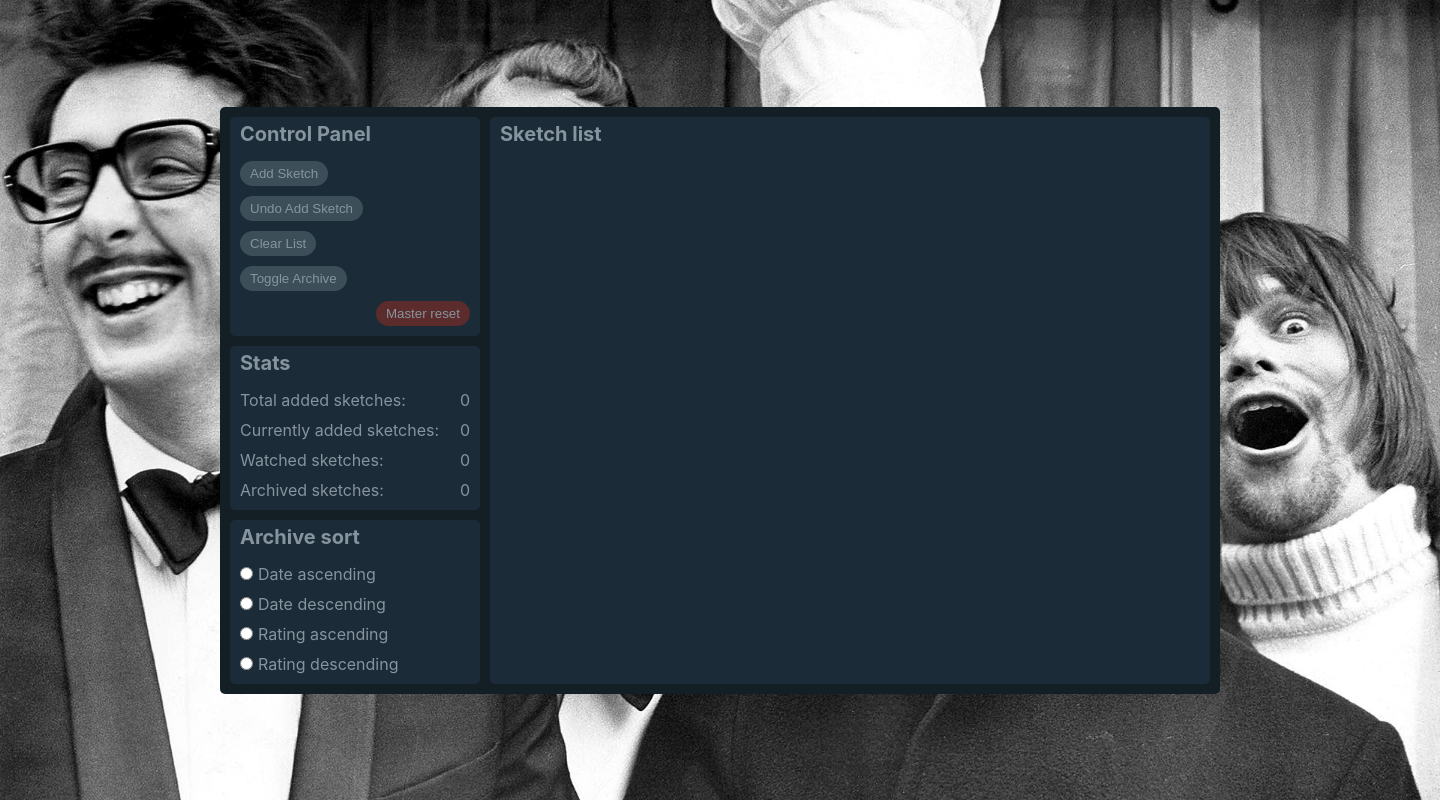
Control Panel › After clicking on "Add Sketch" button a new sketch should appear on the Sketch list
Click the button "Add Sketch" at point(284, 174), box [240, 161, 328, 186]
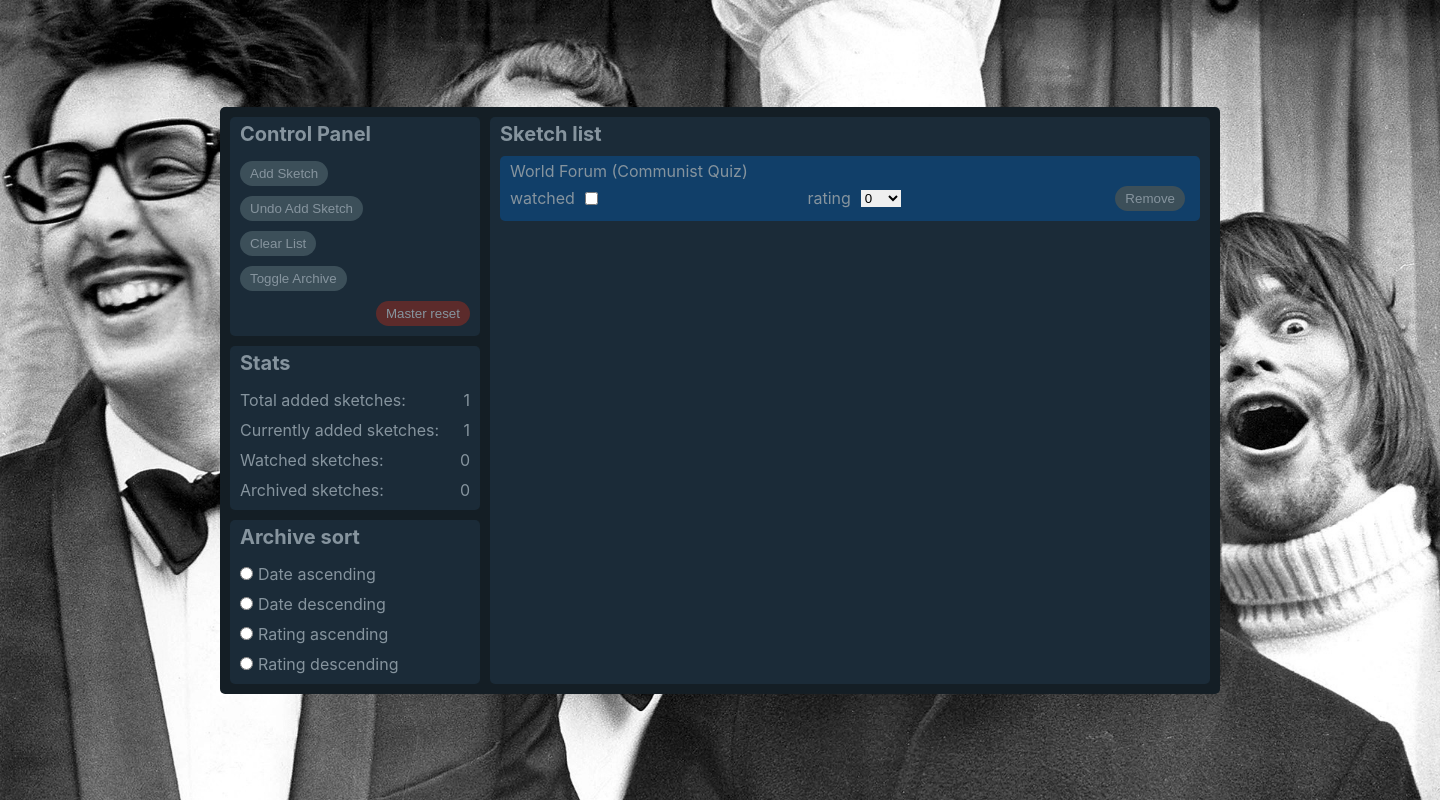
Result: the number of list items is 1 at [500, 156, 1200, 221]
